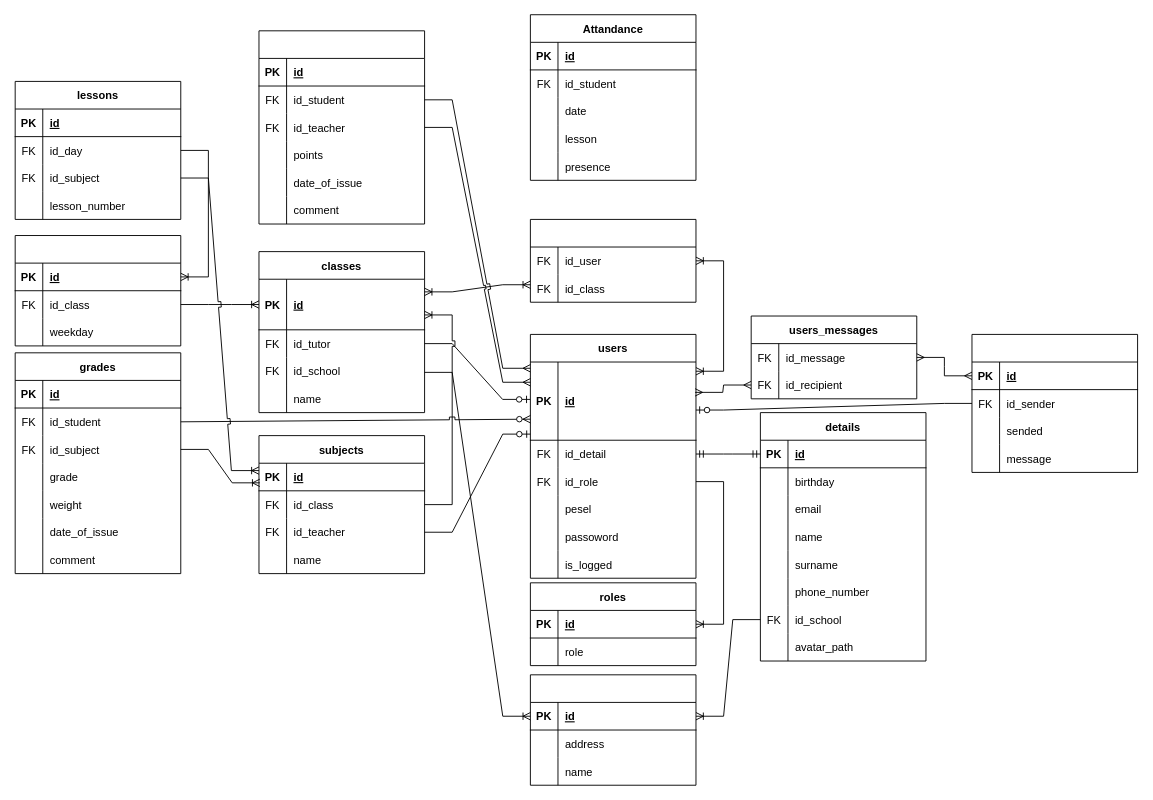
The diagram is 1153 pixels wide and 800 high, and some of its shapes have lost their labels. The shapes that lost their labels are listed below. From the top down, each one's box as (x1, y1, x2, y2) in pixels, then its label:
(258, 30, 425, 224): reamrks
(529, 218, 696, 302): users_classes
(14, 235, 181, 346): days_from_plan
(971, 334, 1138, 472): messages
(529, 674, 696, 785): schools
